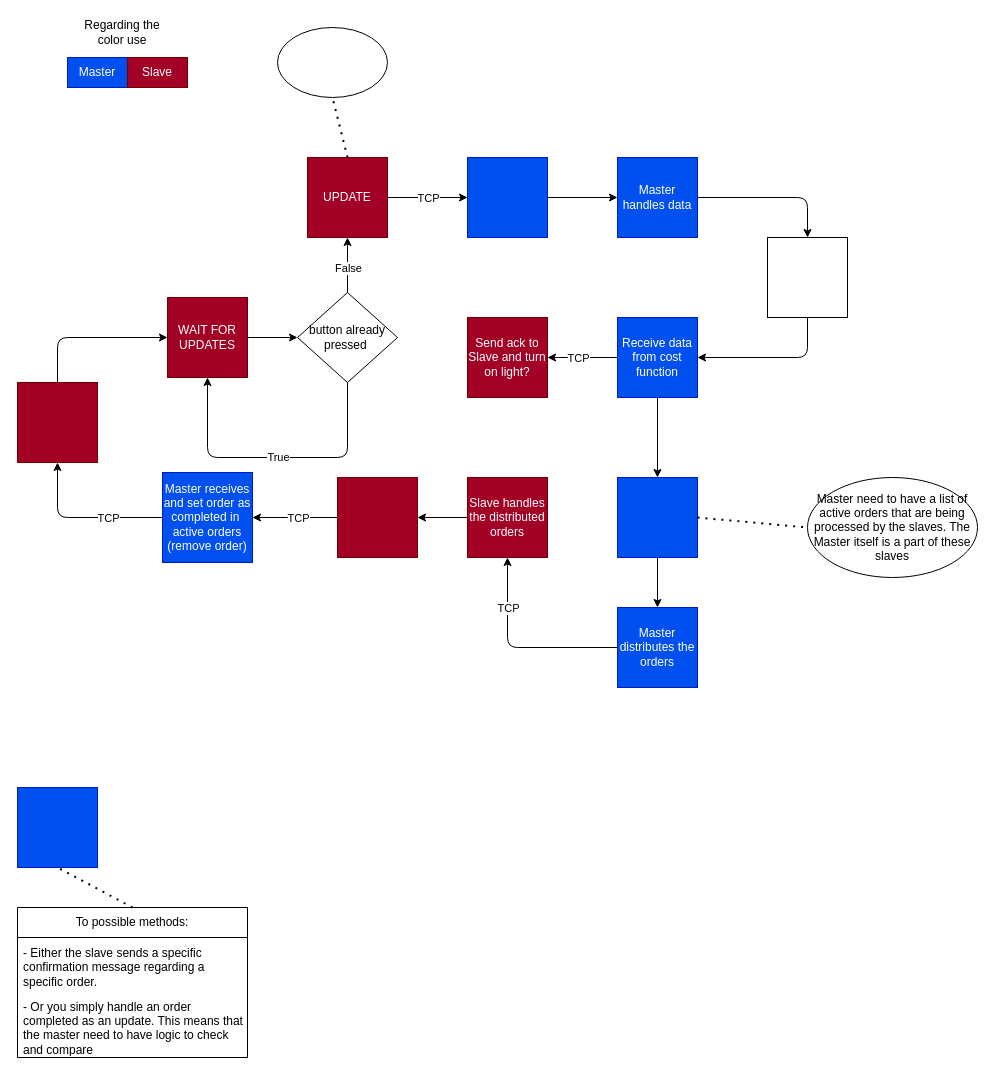
This 995x1075 diagram has some shape labels left out. The shapes that lost their labels are listed below. From the top down, each one's centre as x and y in pixels, then its label:
At [332,62]: "Updates from the slaves, E.g button pressed".
At [507,197]: "Notify master".
At [807,277]: "Send data to cost function".
At [57,422]: "Slave sets button to false".
At [377,517]: "Slave sends order completed to Master".
At [657,517]: "Master sets the active orders".
At [57,827]: "Send confirmation to Master: order completed".
